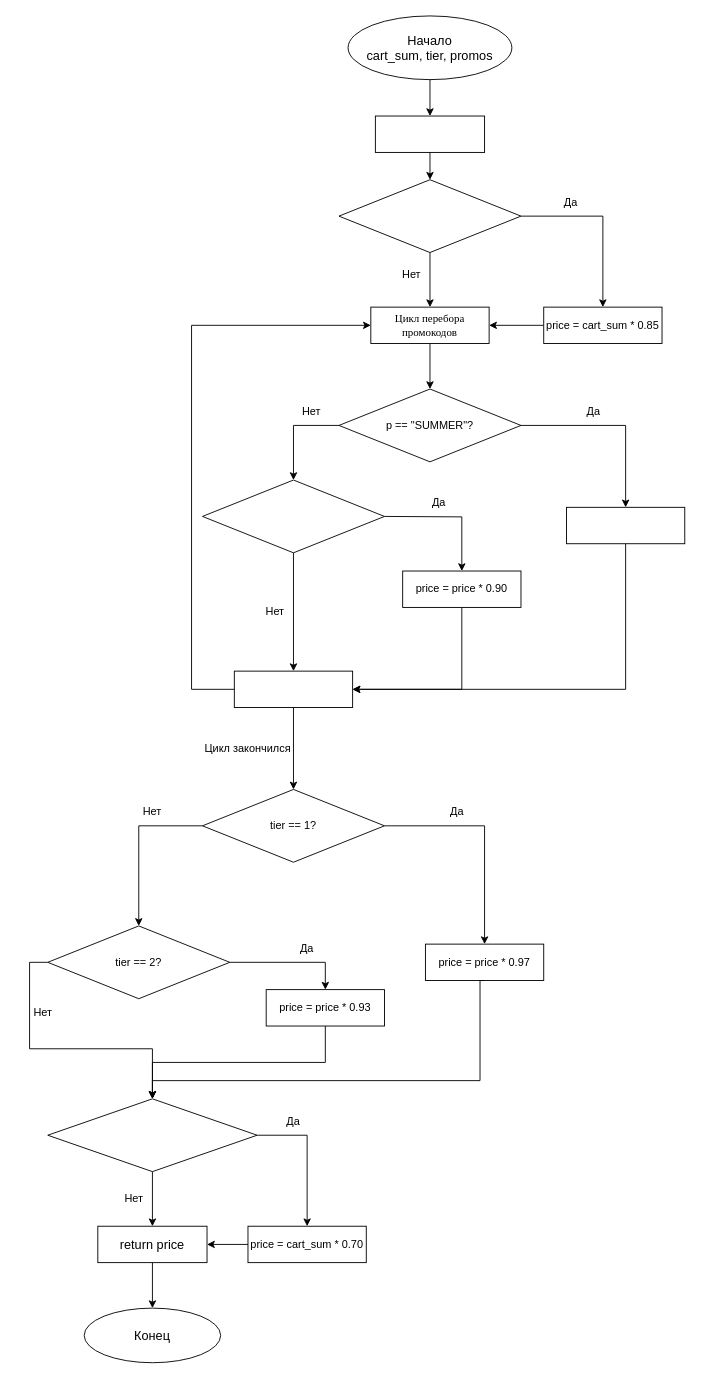
This 701x1379 diagram has some shape labels left out. Each missing label, with the centre of its shape:
cart_sum > 15000?: (429,216)
p == "VIP"?: (293,516)
price < cart_sum * 0.70?: (152,1135)
price = cart_sum: (429,133)
price = price - 500: (625,525)
Тело цикла: (293,689)
